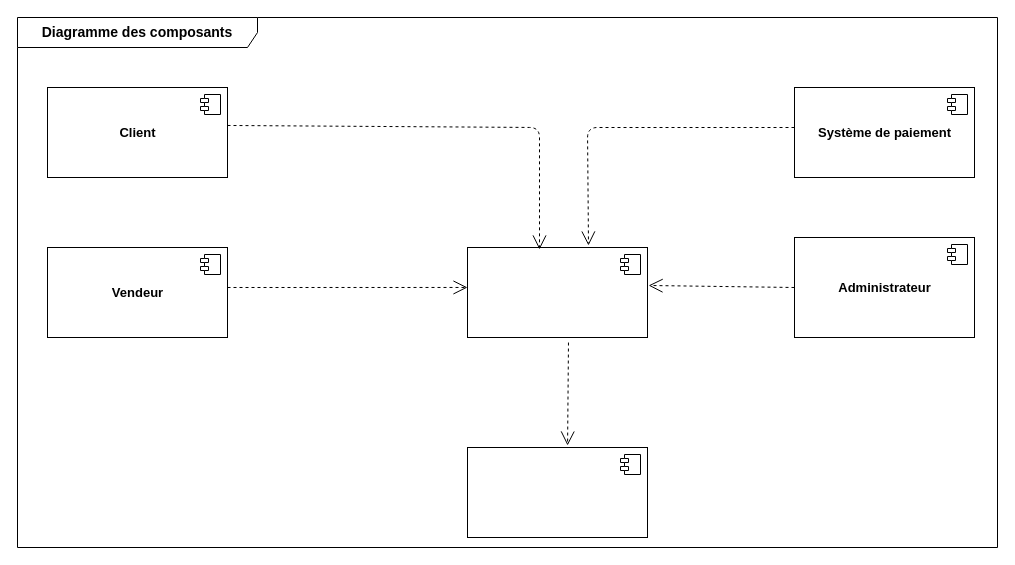
The diagram is 1015 pixels wide and 565 high, and some of its shapes have lost their labels. Each missing label, with the box of its shape:
Application web (back-end): (466, 246, 648, 338)
SGBD: (466, 446, 648, 538)
